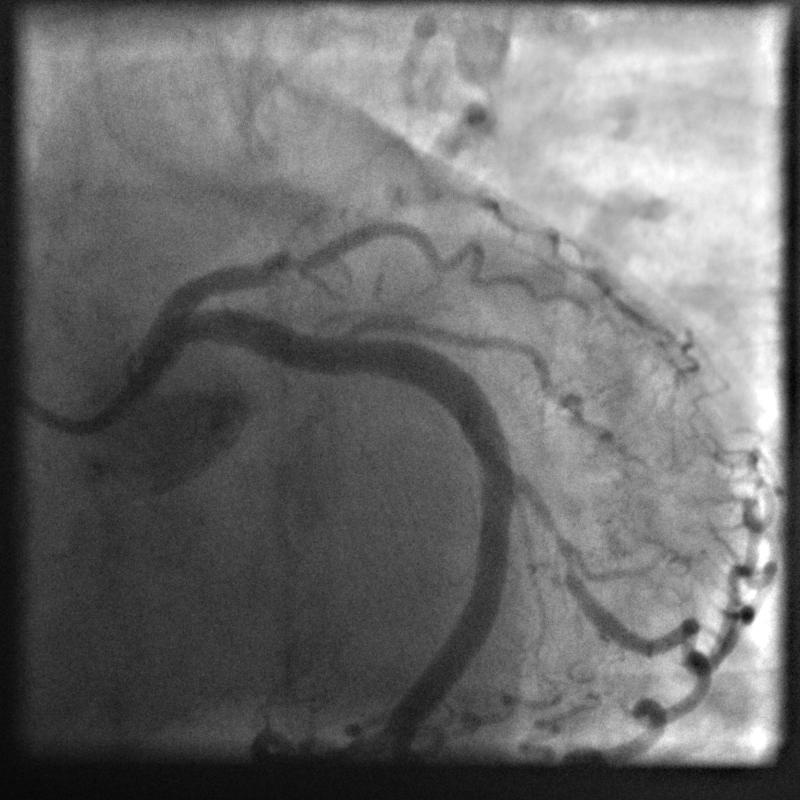Stenosis: (500, 447, 590, 584)
